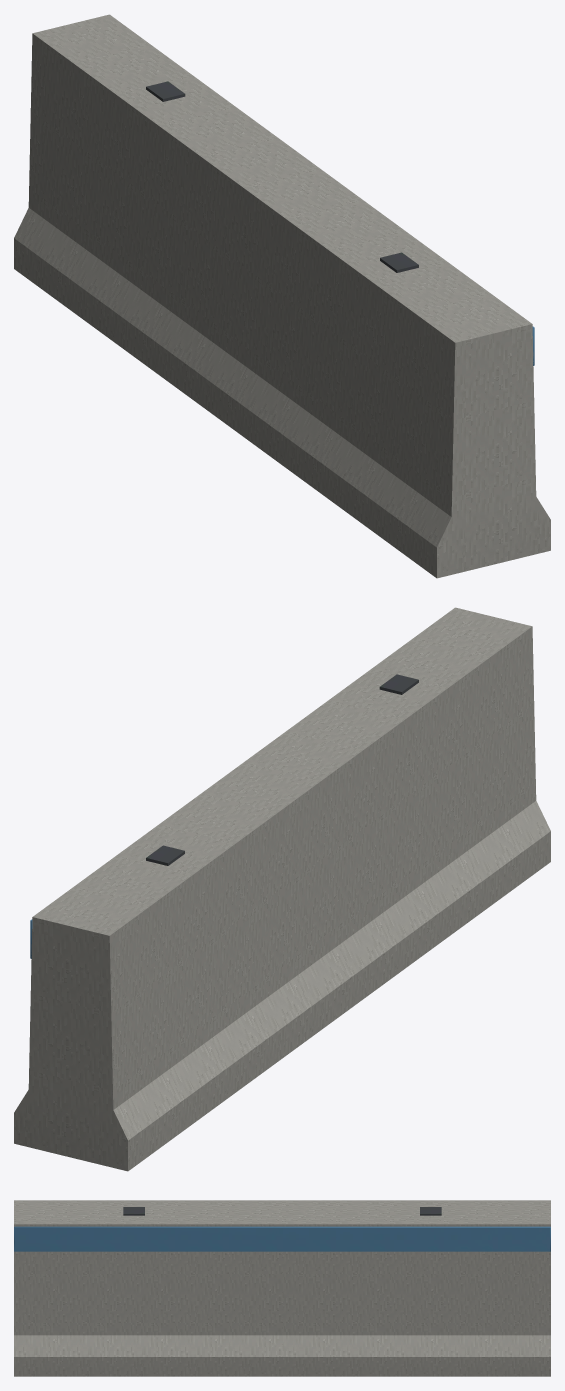
Rendered from concrete-wall_high.glb.
3 views of the same model, one above another, from view 1: azimuth 30°, elevation 25°; view 2: azimuth 150°, elevation 25°; view 3: azimuth 270°, elevation 25° (orthographic). The views are drawn at different scales.
Visible parts, largest first — view 1: concrete, dark-steel; view 2: concrete, dark-steel; view 3: concrete, paint-band, dark-steel.
Boxes of the visible parts, x1,y1,x2,y2 form: concrete: [14, 14, 550, 578]; dark-steel: [146, 81, 418, 272]; concrete: [14, 607, 550, 1171]; dark-steel: [146, 674, 418, 865]; concrete: [14, 1200, 550, 1376]; paint-band: [14, 1226, 550, 1251]; dark-steel: [123, 1207, 441, 1215].
Size of the model in its own units: 0.62 by 1.22 by 3.98.
3 materials, 3 textured.
